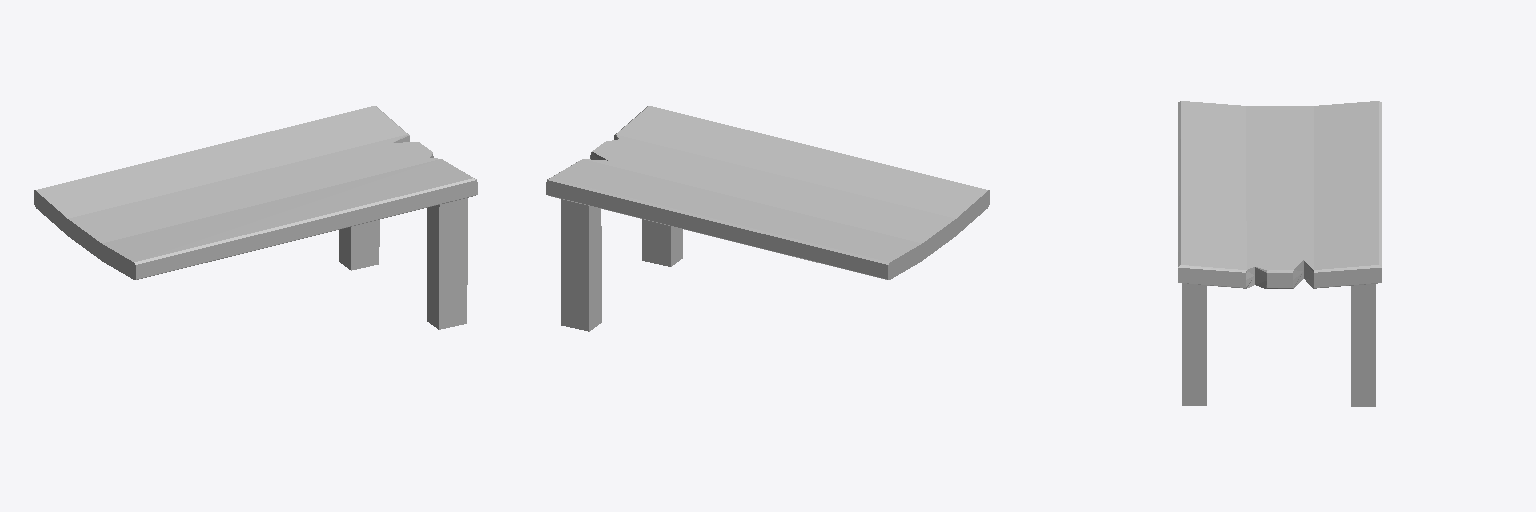
File: tableLP.obj
3 views of the same model, side by side, from view 1: azimuth 30°, elevation 25°; view 2: azimuth 150°, elevation 25°; view 3: azimuth 270°, elevation 25° (orthographic).
Visible parts, largest first — view 1: tableLP:default1; view 2: tableLP:default1; view 3: tableLP:default1.
Part boxes in pixels (left/top/right/bottom): tableLP:default1: left=34, top=106, right=477, bottom=329; tableLP:default1: left=546, top=106, right=989, bottom=331; tableLP:default1: left=1178, top=101, right=1381, bottom=406.
Bounding box in the file's own units: 5.81 × 2.37 × 2.99.